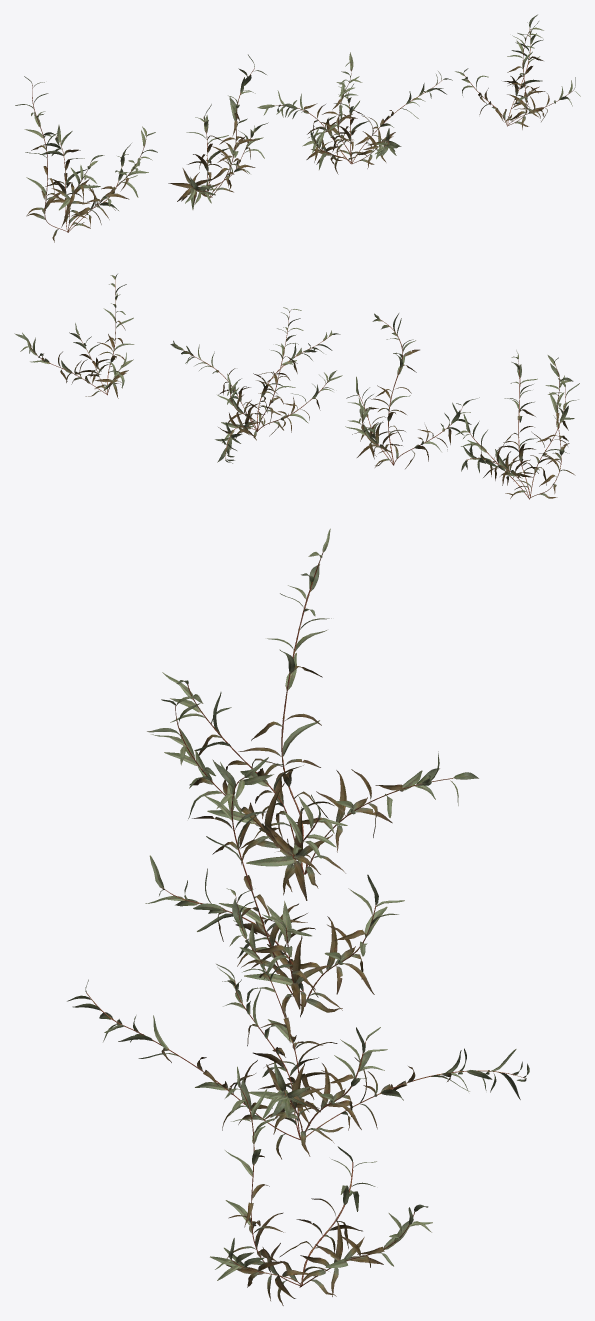
Rendered from mueble-shrub_02.glb.
3 views of the same model, one above another, from view 1: azimuth 30°, elevation 25°; view 2: azimuth 150°, elevation 25°; view 3: azimuth 270°, elevation 25° (orthographic). The views are drawn at different scales.
Parts seen in each view (by area): view 1: shrub_02_c, shrub_02_a, shrub_02_b, shrub_02_d; view 2: shrub_02_a, shrub_02_c, shrub_02_b, shrub_02_d; view 3: shrub_02_a, shrub_02_c, shrub_02_b, shrub_02_d.
Boxes of the visible parts, x1,y1,x2,y2 form: shrub_02_c: (257, 52, 452, 174); shrub_02_a: (15, 76, 157, 242); shrub_02_b: (168, 54, 268, 209); shrub_02_d: (455, 14, 580, 129); shrub_02_a: (455, 350, 579, 499); shrub_02_c: (170, 307, 342, 463); shrub_02_b: (345, 313, 479, 468); shrub_02_d: (14, 274, 134, 398); shrub_02_a: (147, 528, 478, 900); shrub_02_c: (67, 888, 529, 1159); shrub_02_b: (145, 757, 404, 1018); shrub_02_d: (210, 1066, 432, 1305).
Size of the model in its own units: 6.05 by 1.7 by 2.29.
1 material, 1 textured.
